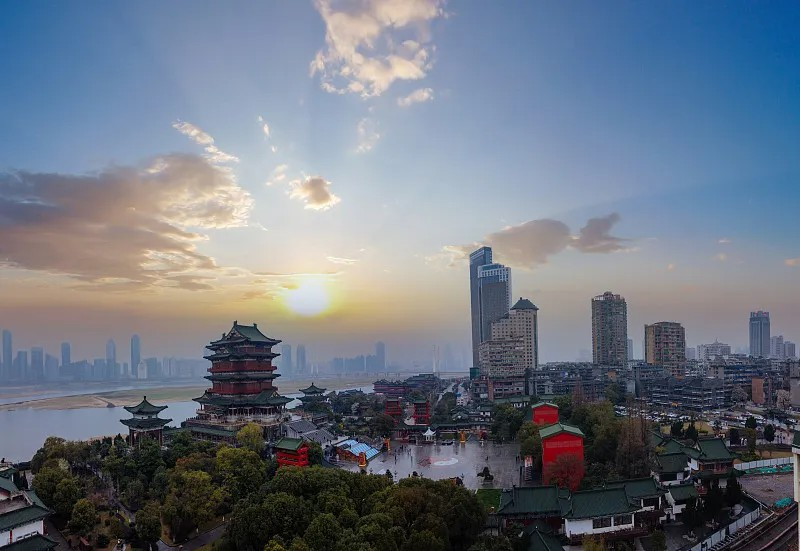Teng: (192, 322, 294, 419)
